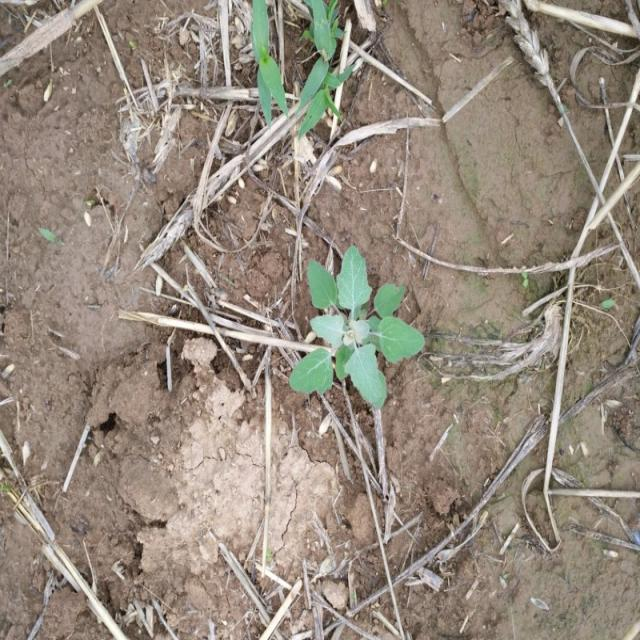goosefoots: (286, 242, 418, 433)
